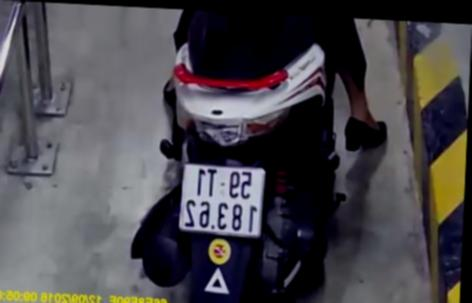License_Plate: (173, 156, 275, 243)
